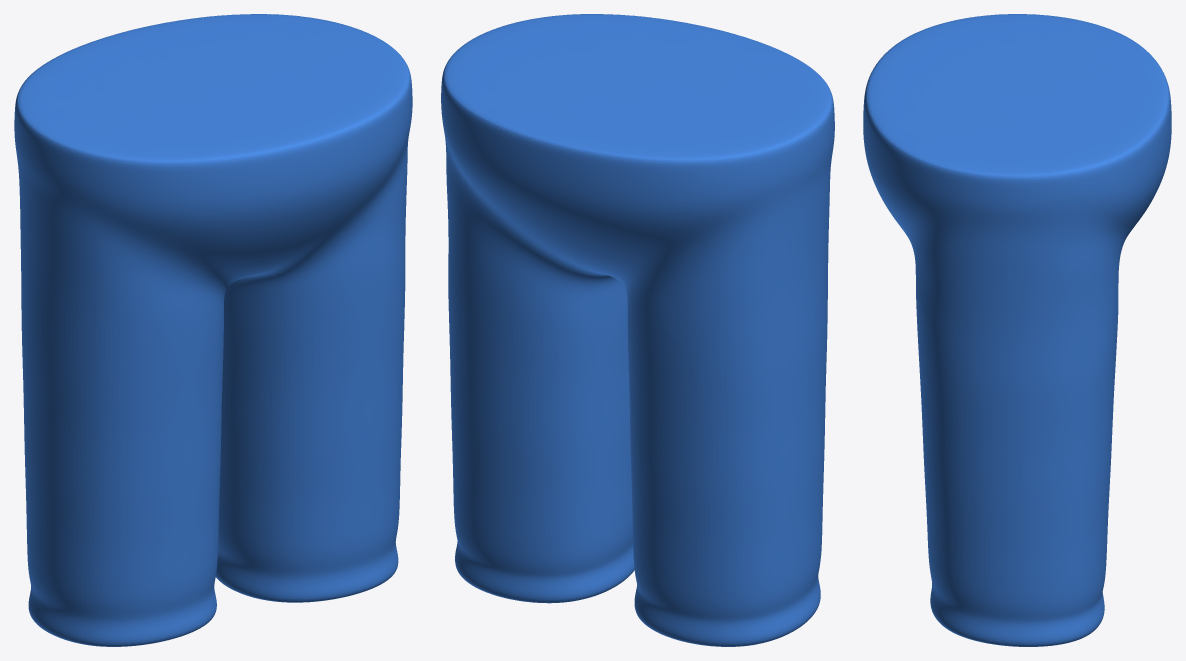
The model's file is PANTALON_2_H.glb.
The picture shows the model from 3 angles, left to right: view 1: azimuth 30°, elevation 25°; view 2: azimuth 150°, elevation 25°; view 3: azimuth 270°, elevation 25°; orthographic projection. The views are drawn at different scales.
Visible parts, largest first — view 1: Cube.096; view 2: Cube.096; view 3: Cube.096.
Boxes of the visible parts, <box> form: Cube.096: <box>14,14,412,646</box>; Cube.096: <box>441,14,834,646</box>; Cube.096: <box>863,14,1171,646</box>.
Size of the model in its own units: 2.06 by 2.81 by 1.63.
